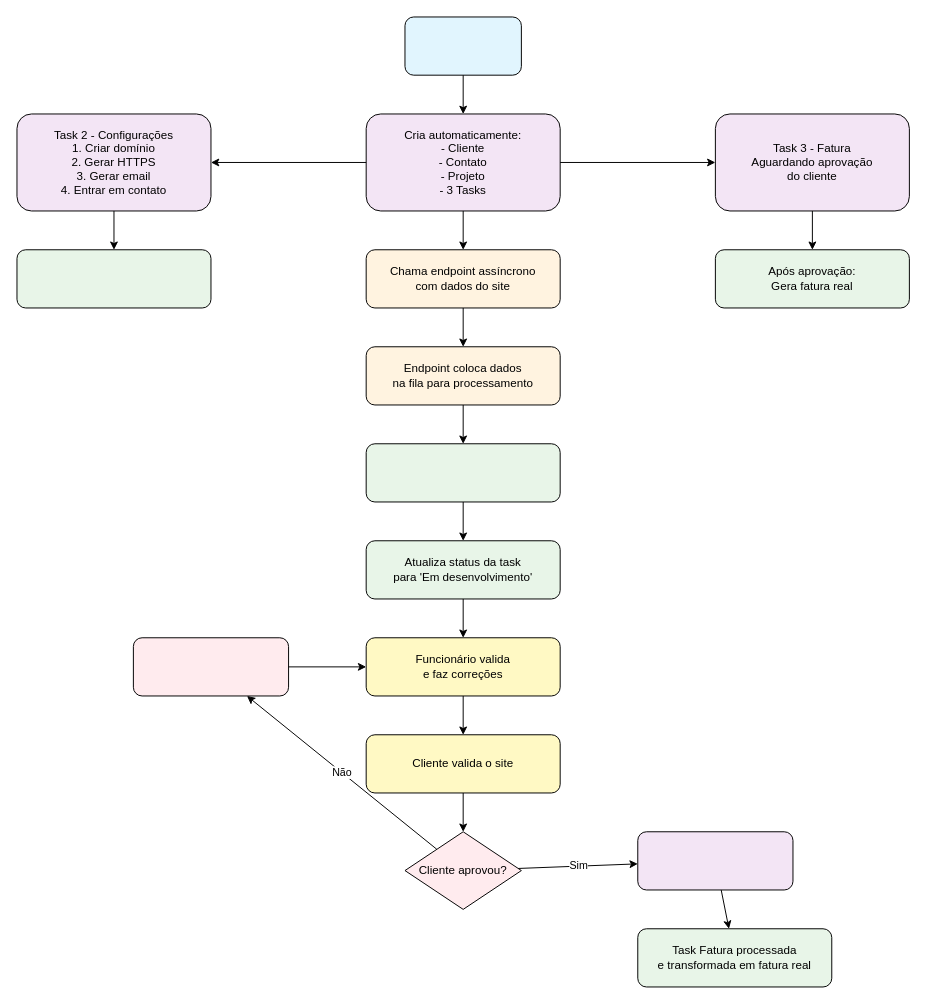
Image size: 926x1004. Some labels were removed from this diagram. Here are the shapes that lost their labels. From the top down, the centre of each, then its label:
At pixel 462 45: "Cliente faz cadastro".
At pixel 113 278: "Processa itens da Task 2".
At pixel 462 472: "API de IA processa e cria o site".
At pixel 210 666: "Volta para correções do funcionário".
At pixel 715 860: "Executa Task de Fatura".
